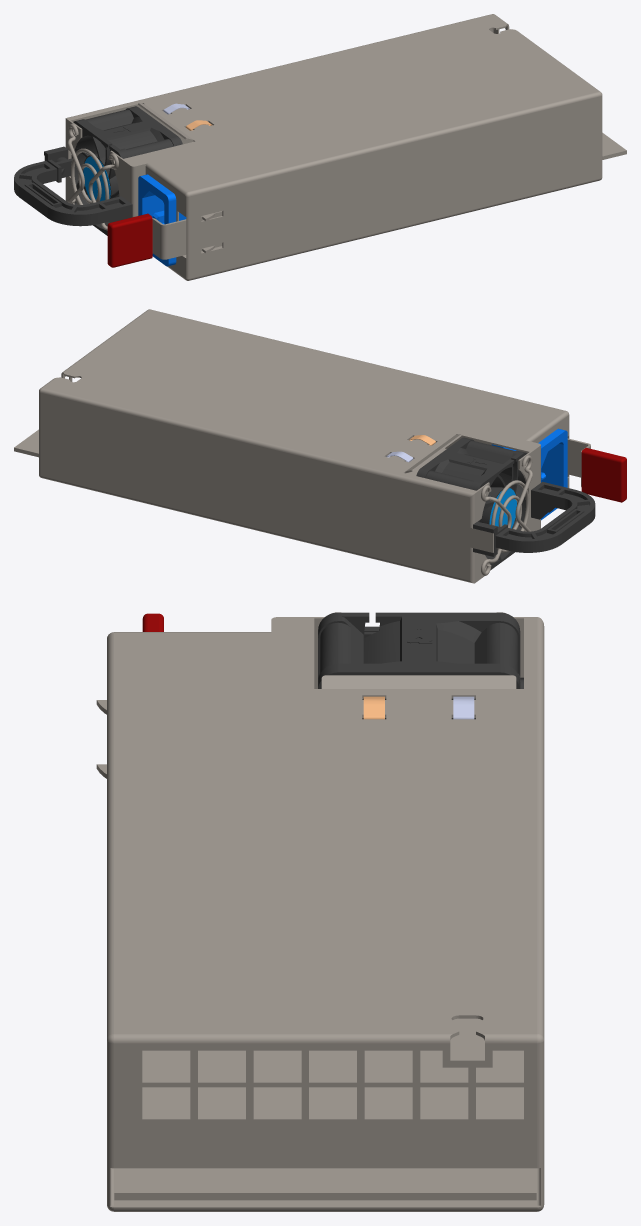
File: psu-huawei-900w-hot-swap-C2X01wbC.glb
3 views of the same model, one above another, from view 1: azimuth 30°, elevation 25°; view 2: azimuth 150°, elevation 25°; view 3: azimuth 270°, elevation 25° (orthographic). The views are drawn at different scales.
Parts seen in each view (by area): view 1: solid (×7); view 2: solid (×7); view 3: solid (×2).
Boxes of the visible parts, x1,y1,x2,y2 form: solid (×7): [14, 14, 626, 280]; solid (×7): [14, 309, 626, 583]; solid (×2): [96, 612, 544, 1211].
Bounding box in the file's own units: 238 × 41.63 × 88.5.
